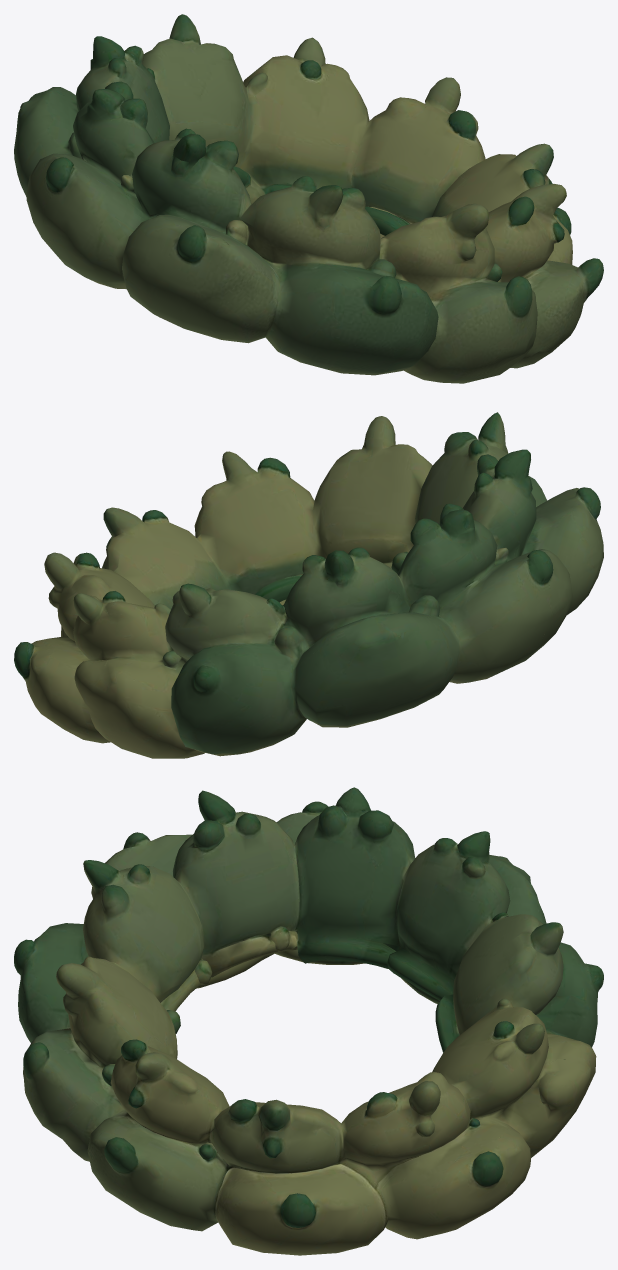
The model's file is acc_hat_forest_leaf_01.glb.
3 renders of one model, top to bottom at view 1: azimuth 30°, elevation 25°; view 2: azimuth 150°, elevation 25°; view 3: azimuth 270°, elevation 25°, orthographic. The views are drawn at different scales.
Parts seen in each view (by area): view 1: acc_hat_forest_leaf_01; view 2: acc_hat_forest_leaf_01; view 3: acc_hat_forest_leaf_01.
Boxes of the visible parts, x1,y1,x2,y2 form: acc_hat_forest_leaf_01: [14, 14, 603, 383]; acc_hat_forest_leaf_01: [14, 412, 603, 758]; acc_hat_forest_leaf_01: [14, 787, 603, 1255].
Size of the model in its own units: 0.4726 by 0.26 by 0.4782.
1 material, 1 textured.
